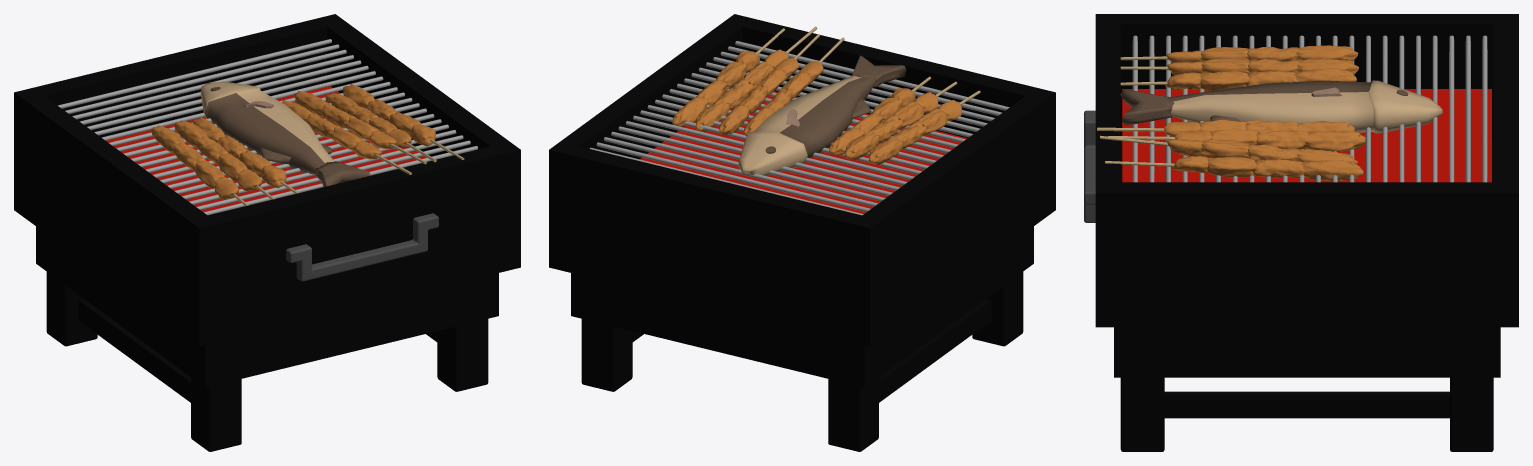
File: grill_isi.fbx
The picture shows the model from 3 angles, left to right: view 1: azimuth 30°, elevation 25°; view 2: azimuth 150°, elevation 25°; view 3: azimuth 270°, elevation 25°; orthographic projection. The views are drawn at different scales.
Parts seen in each view (by area): view 1: grill.001, grill_2.001, leg.001, ikan.005, grill_bot.001, grill_leg.001, grill_handle.001, stick.002, stick.006, stick.003, stick.001, stick.005 (+2 smaller); view 2: grill.001, grill_2.001, leg.001, ikan.005, grill_bot.001, grill_leg.001, stick.006, stick.001, stick.002, stick.007, stick.003, stick.005 (+1 smaller); view 3: grill.001, ikan.005, grill_bot.001, grill_2.001, grill_leg.001, leg.001, stick.001, stick.003, stick.007, stick.005, stick.002, stick.006 (+2 smaller).
Boxes of the visible parts, x1,y1,x2,y2 form: grill.001: [14, 14, 520, 387]; grill_2.001: [58, 39, 477, 215]; leg.001: [46, 272, 488, 451]; ikan.005: [200, 81, 370, 186]; grill_bot.001: [106, 86, 426, 212]; grill_leg.001: [78, 299, 437, 402]; grill_handle.001: [286, 213, 438, 281]; stick.002: [151, 125, 248, 206]; stick.006: [174, 120, 274, 199]; stick.003: [294, 91, 426, 164]; stick.001: [343, 84, 464, 159]; stick.005: [192, 117, 298, 193]; grill.001: [549, 14, 1055, 387]; grill_2.001: [590, 41, 1009, 215]; leg.001: [581, 272, 1023, 451]; ikan.005: [738, 55, 906, 175]; grill_bot.001: [639, 91, 967, 213]; grill_leg.001: [632, 299, 991, 402]; stick.006: [845, 81, 957, 160]; stick.001: [672, 28, 784, 126]; stick.002: [868, 90, 980, 165]; stick.007: [695, 26, 817, 132]; stick.003: [719, 34, 820, 135]; stick.005: [829, 76, 931, 155]; grill.001: [1095, 14, 1518, 377]; ikan.005: [1120, 80, 1442, 133]; grill_bot.001: [1122, 89, 1491, 182]; grill_2.001: [1132, 35, 1487, 182]; grill_leg.001: [1164, 391, 1449, 418]; leg.001: [1120, 377, 1493, 451]; stick.001: [1105, 156, 1363, 180]; stick.003: [1108, 128, 1365, 152]; stick.007: [1100, 135, 1357, 164]; stick.005: [1120, 68, 1356, 91]; stick.002: [1120, 45, 1358, 63]; stick.006: [1120, 58, 1358, 75].
Bounding box in the file's own units: 97.39 × 72.46 × 100.
